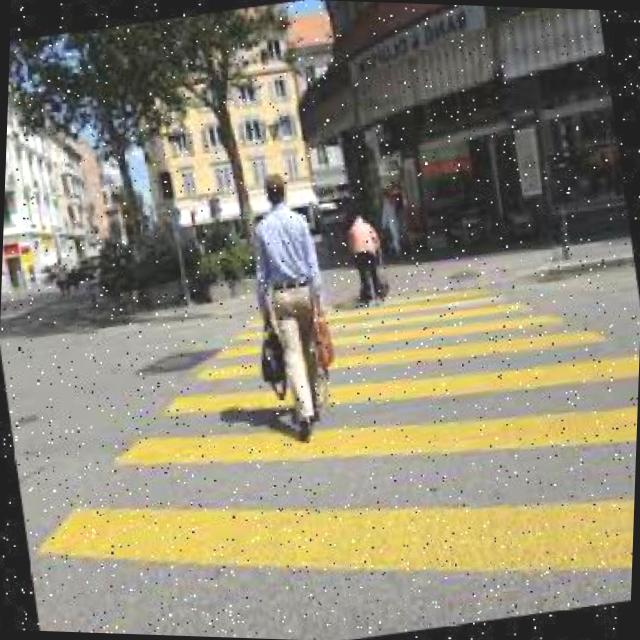Person: (236, 165, 351, 441), (341, 208, 388, 306)
